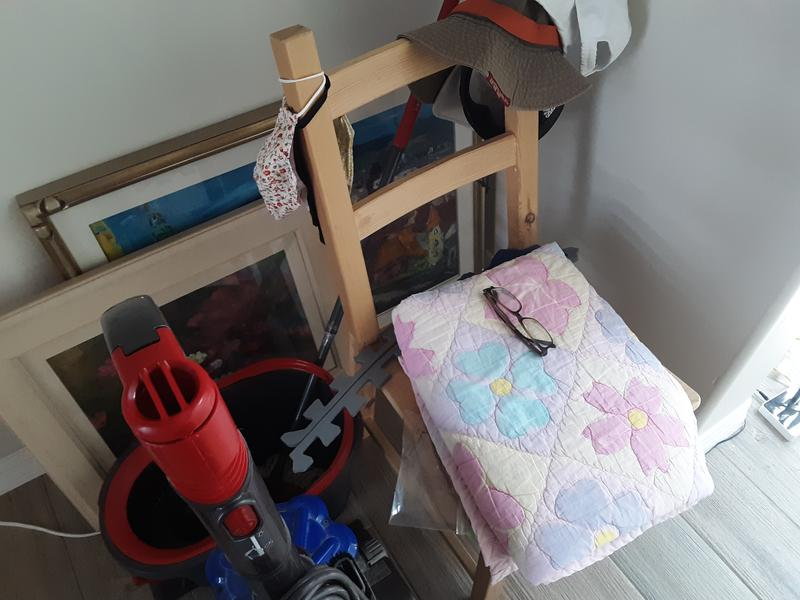glasses: (481, 285, 558, 357)
